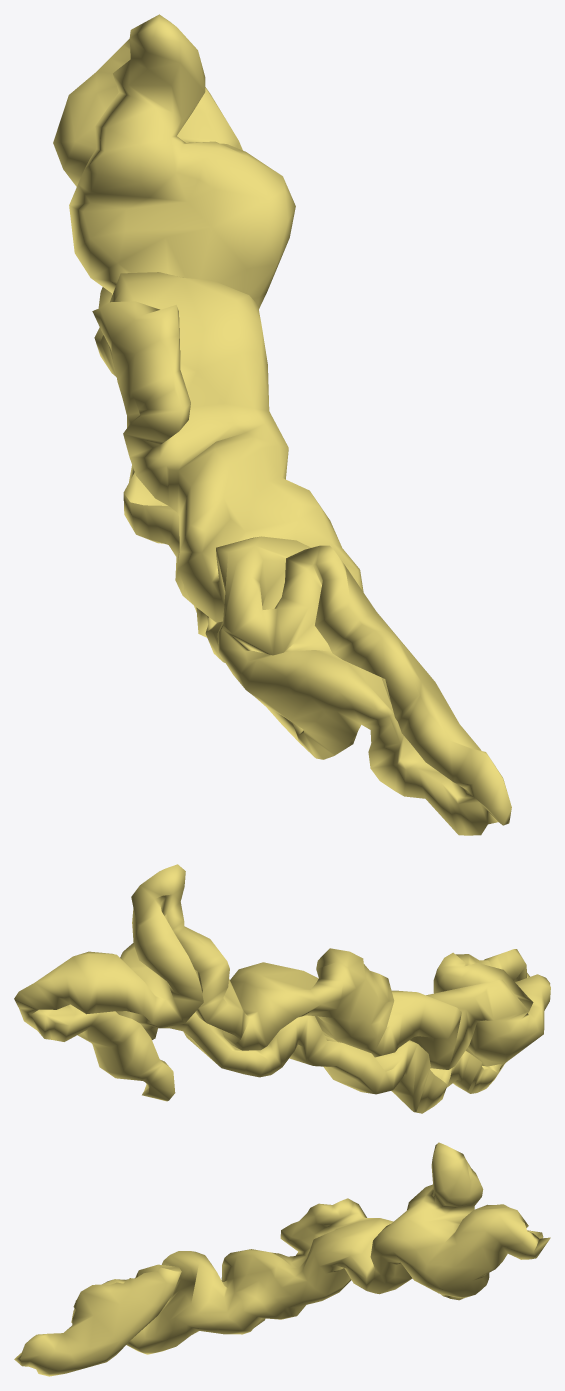
Rendered from superior-temporal-sulcus-r.glb.
3 views of the same model, one above another, from view 1: azimuth 30°, elevation 25°; view 2: azimuth 150°, elevation 25°; view 3: azimuth 270°, elevation 25° (orthographic). The views are drawn at different scales.
Visible parts, largest first — view 1: Superior temporal sulcus.r; view 2: Superior temporal sulcus.r; view 3: Superior temporal sulcus.r.
Boxes of the visible parts, x1=… form: Superior temporal sulcus.r: x1=53, y1=14, x2=511, y2=835; Superior temporal sulcus.r: x1=14, y1=864, x2=550, y2=1113; Superior temporal sulcus.r: x1=14, y1=1142, x2=550, y2=1376.
Size of the model in its own units: 0.0358 by 0.0515 by 0.0986.
